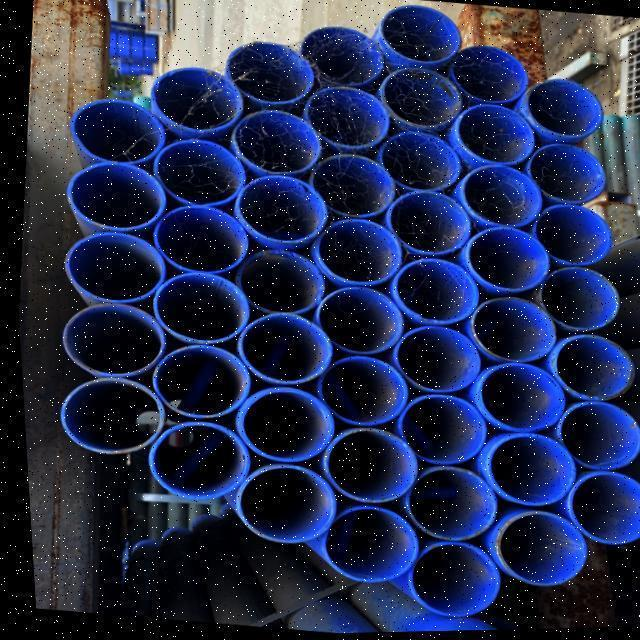pipe: (131, 415, 253, 511), (45, 370, 167, 462), (46, 297, 169, 383), (224, 459, 338, 551), (394, 537, 505, 629), (480, 506, 593, 596), (50, 225, 171, 309), (225, 382, 337, 471), (311, 423, 421, 513), (142, 340, 256, 426), (309, 501, 420, 589), (391, 461, 499, 550), (55, 154, 171, 236), (472, 428, 579, 516), (224, 307, 335, 391), (144, 267, 255, 349), (137, 58, 248, 140), (225, 167, 334, 249), (141, 201, 252, 281), (386, 389, 489, 474), (306, 350, 411, 433), (62, 88, 169, 168), (462, 359, 567, 440), (302, 214, 408, 294), (303, 282, 408, 361), (217, 35, 323, 113), (145, 133, 251, 211), (382, 320, 485, 399), (458, 291, 561, 370), (224, 103, 328, 180), (381, 253, 483, 331), (543, 399, 640, 481), (454, 222, 555, 300), (540, 330, 640, 408), (227, 242, 328, 319), (378, 186, 476, 263), (303, 147, 399, 224), (515, 72, 610, 149), (554, 469, 640, 554), (299, 82, 396, 157), (368, 0, 469, 72), (450, 161, 549, 234), (528, 264, 621, 340), (292, 20, 390, 92), (444, 101, 540, 172), (370, 127, 466, 198), (525, 199, 618, 272), (443, 39, 536, 109), (372, 66, 466, 135), (519, 138, 610, 209)
